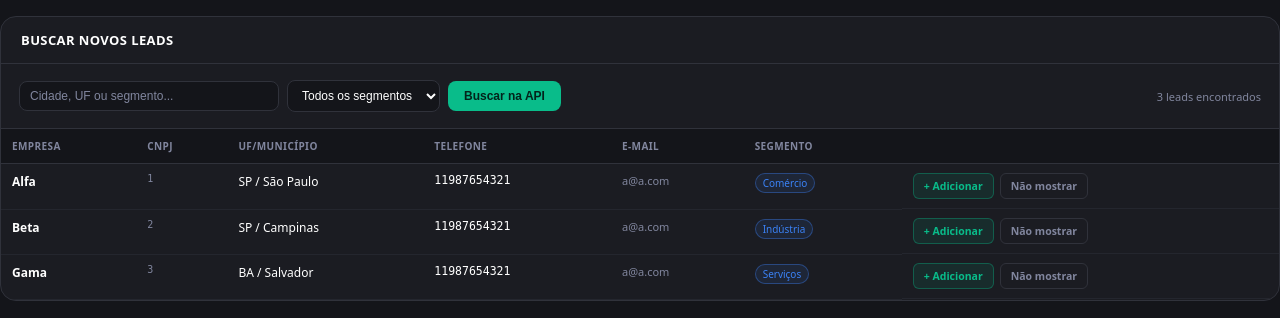
Test: NewLeadsTable › filtra por texto (uf) case-insensitive
Type "ba" into the field with placeholder "Cidade, UF ou segmento..." at (149, 96), box [19,81,279,111]
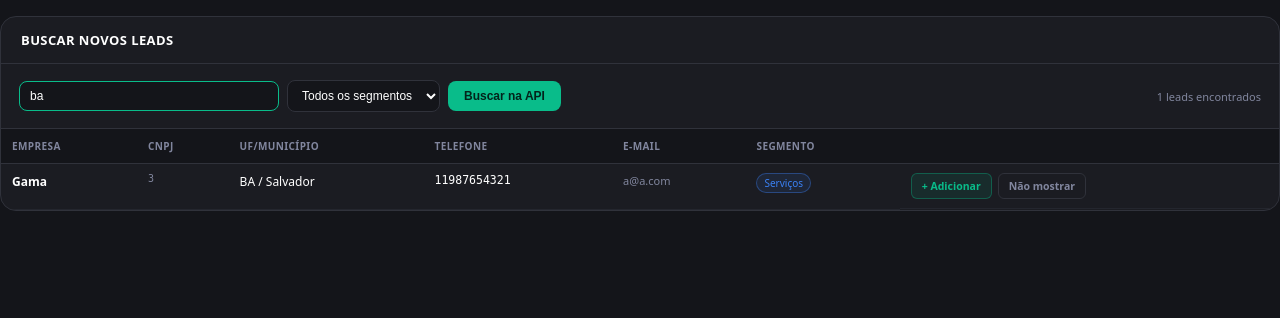
expect the text "Gama" is shown: met, box [12,173,47,190]
expect the text "Alfa" is gone: met
